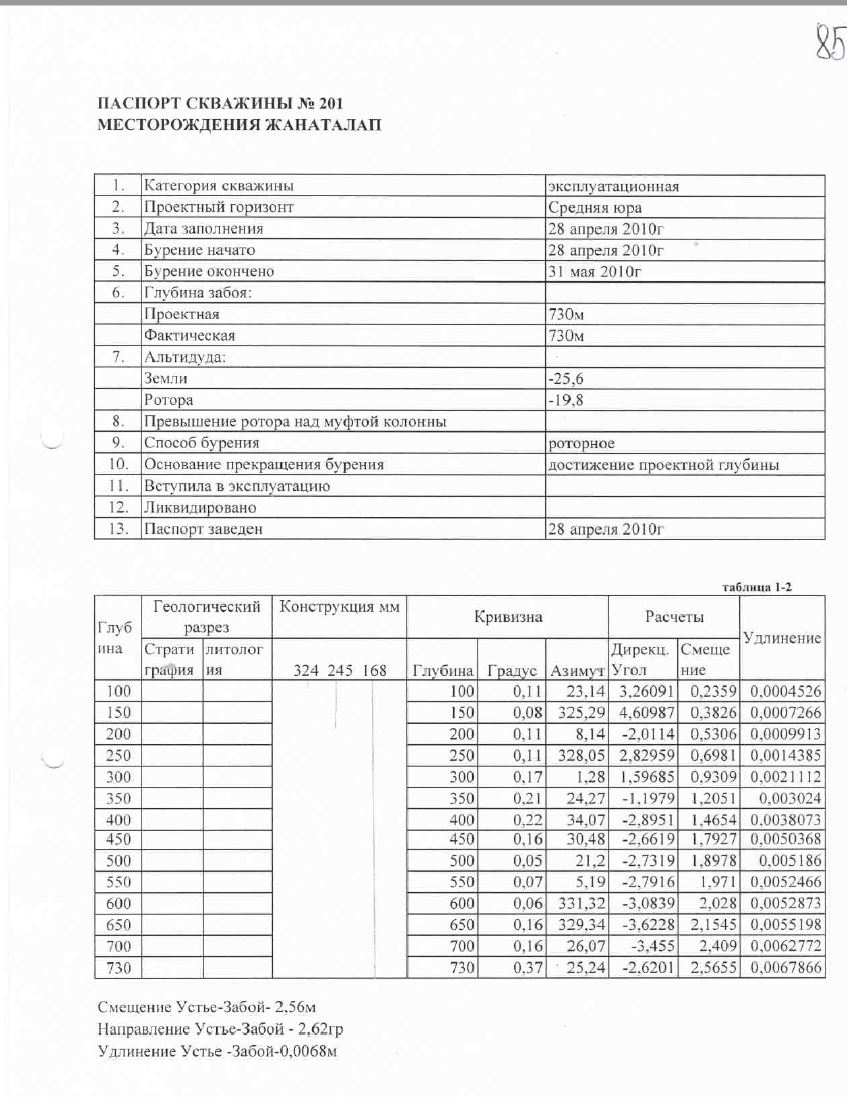Bordered: (93, 596, 828, 979), (91, 175, 827, 545)
